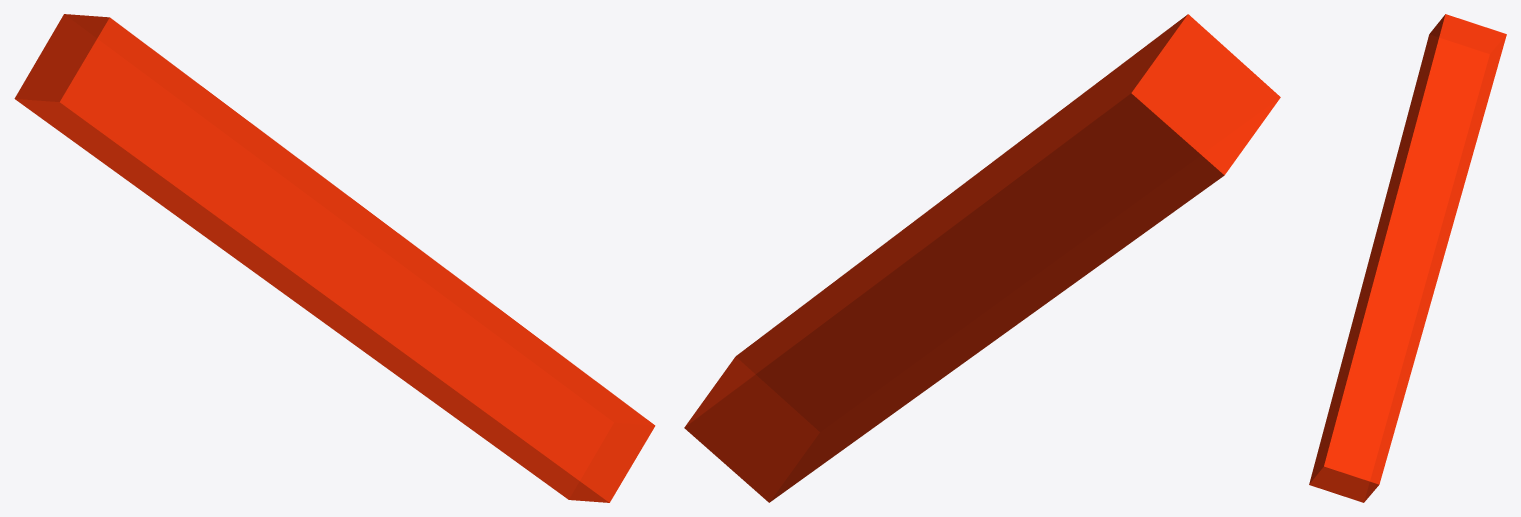
File: Event_420094457_EBrechit_12.fbx
The picture shows the model from 3 angles, left to right: view 1: azimuth 30°, elevation 25°; view 2: azimuth 150°, elevation 25°; view 3: azimuth 270°, elevation 25°; orthographic projection. The views are drawn at different scales.
Visible parts, largest first — view 1: Model; view 2: Model; view 3: Model.
Boxes of the visible parts, x1,y1,x2,y2 form: Model: (14, 14, 655, 502); Model: (684, 14, 1280, 502); Model: (1309, 14, 1506, 502).
Bounding box in the file's own units: 0.3794 × 0.375 × 0.1875.
